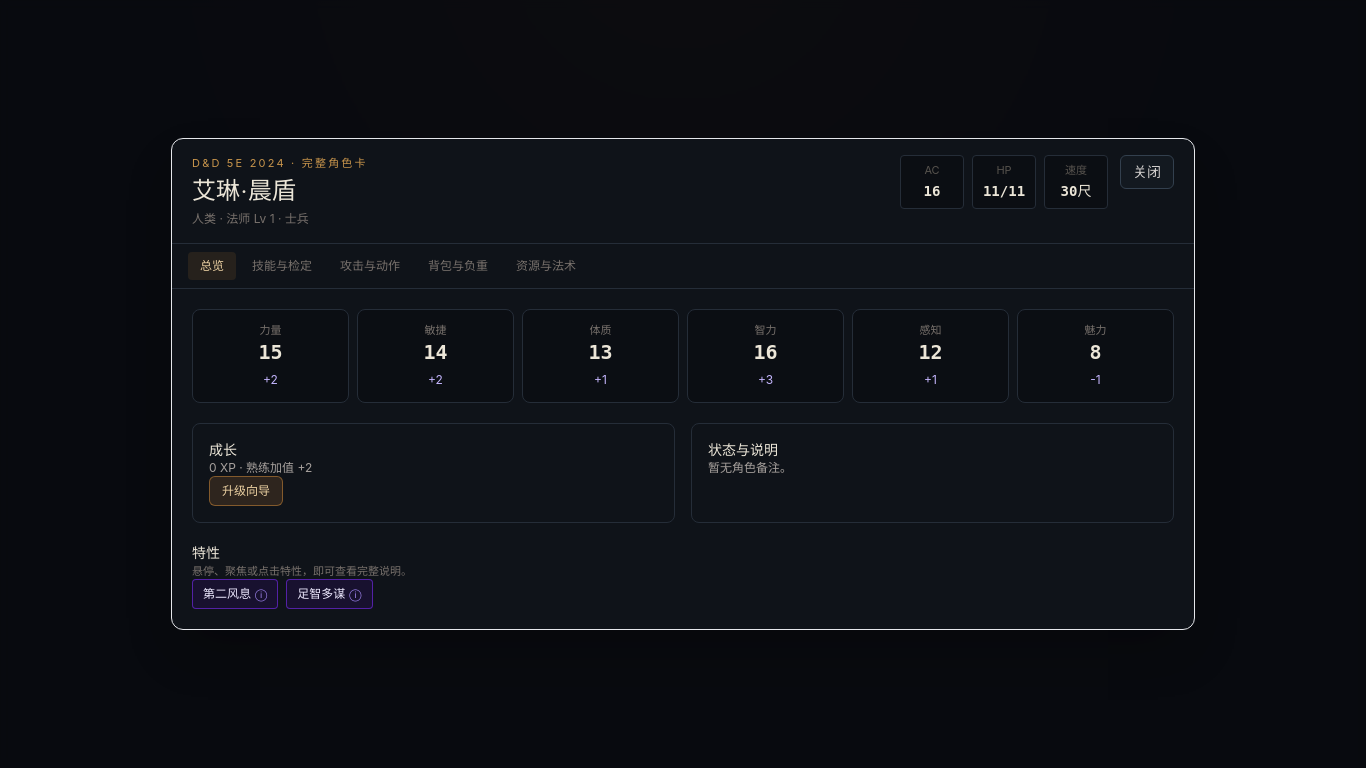
it: CharacterSheetDetail › renders spellcasting stats, slots and detailed atomized spells
Click the button "资源与法术": (546, 266) [504,252,588,280]
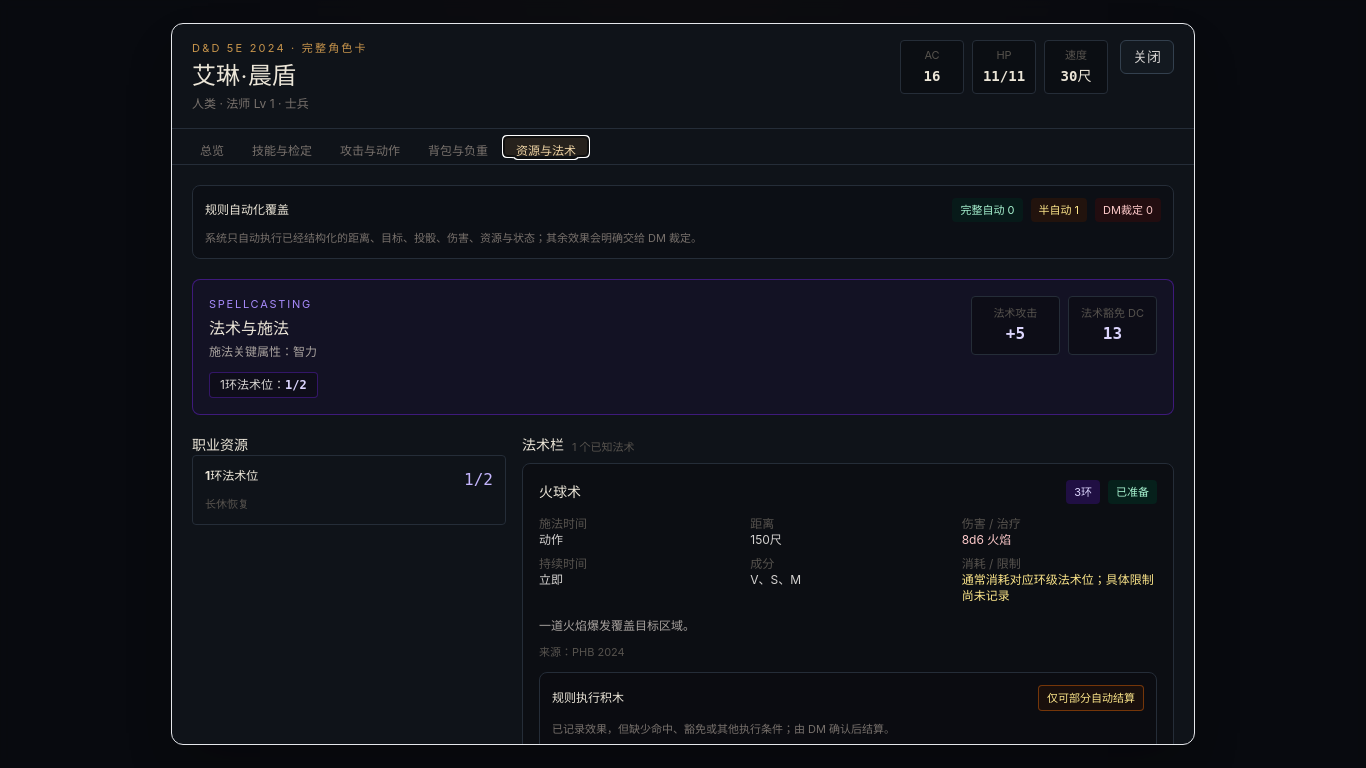
Check: the text "火球术" is shown, box [539,482,581,502]
Check: the text "+5" is shown, box [1006,324,1025,343]
Check: the text "8d6 火焰" is shown, box [962,532,1011,547]
